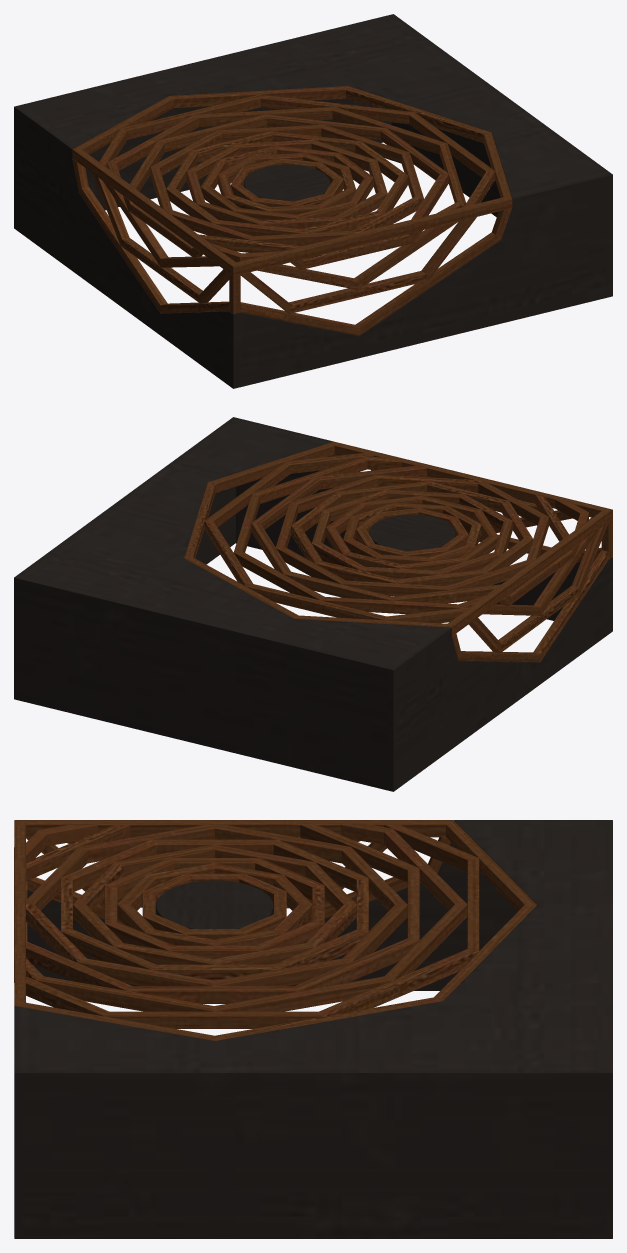
3 views of the same model, one above another, from view 1: azimuth 30°, elevation 25°; view 2: azimuth 150°, elevation 25°; view 3: azimuth 270°, elevation 25° (orthographic). The views are drawn at different scales.
Parts seen in each view (by area): view 1: modern_coffee_table_02; view 2: modern_coffee_table_02; view 3: modern_coffee_table_02.
Part boxes in pixels (x1,y1,x2,y2): modern_coffee_table_02: [14, 14, 612, 388]; modern_coffee_table_02: [14, 417, 612, 791]; modern_coffee_table_02: [14, 820, 612, 1238].
Bounding box in the file's own units: 1.2 × 0.3692 × 1.2.
2 materials, 2 textured.
